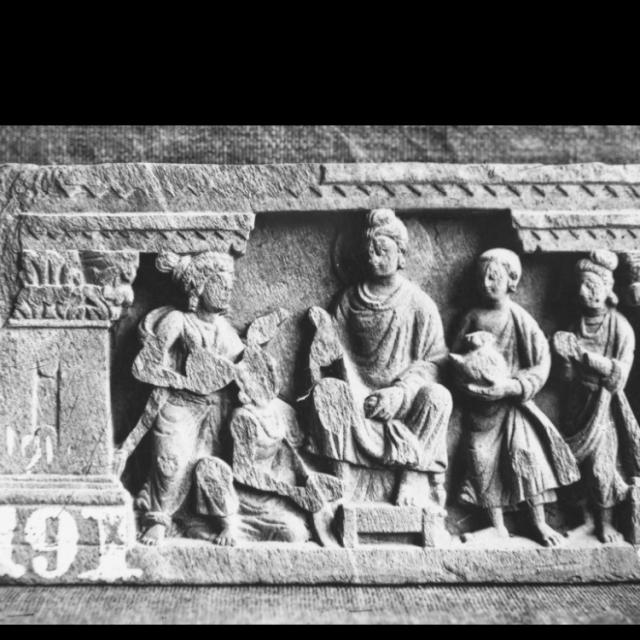buddha-sitting: (310, 210, 452, 504)
